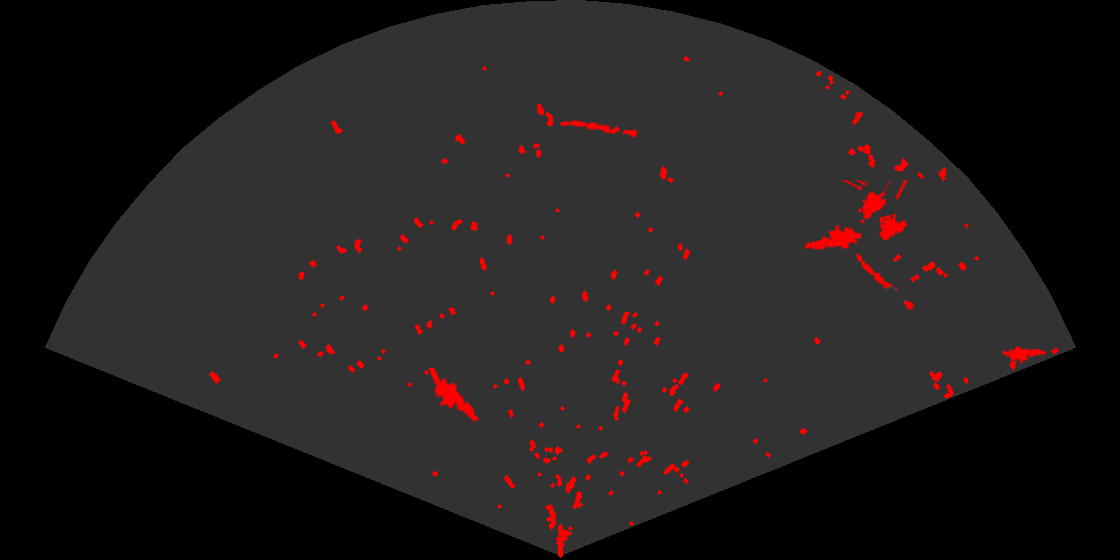cage: (840, 180, 909, 242)
chain: (854, 252, 919, 317), (558, 118, 641, 139)
frogman: (426, 368, 480, 423), (802, 223, 861, 251), (1003, 345, 1047, 366)
